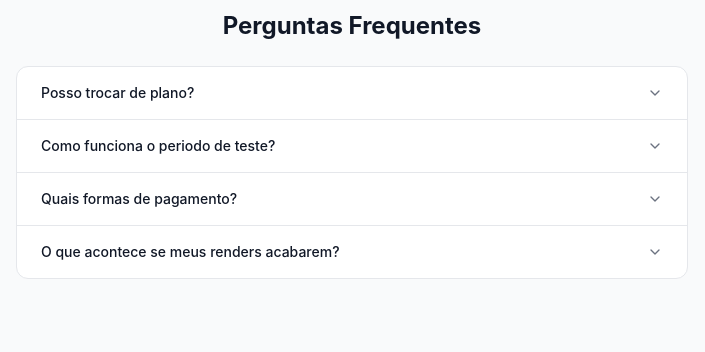
Scenario: PricingFAQ › expands answer on click
Click the button "Posso trocar de plano?" at (118, 92), box 17,67 -> 687,119
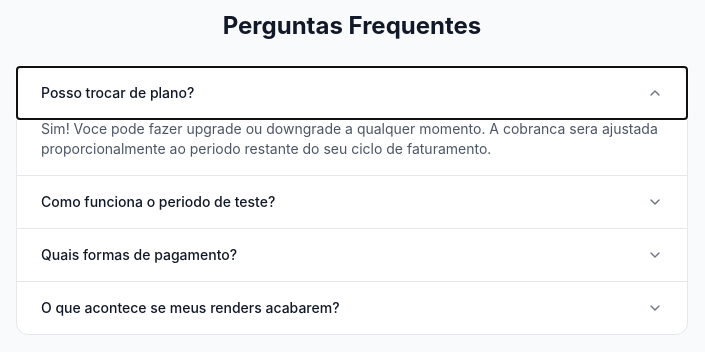
Now the text "Sim! Voce pode fazer upgrade" is shown, box 41,120 -> 658,157
